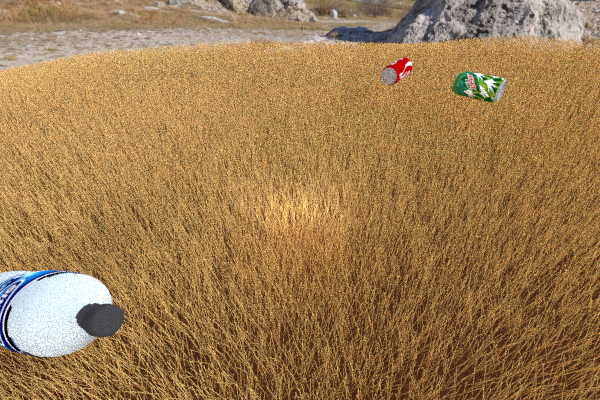Plastic Bottle: (0, 273, 124, 362), (154, 81, 190, 111), (41, 73, 89, 95)
